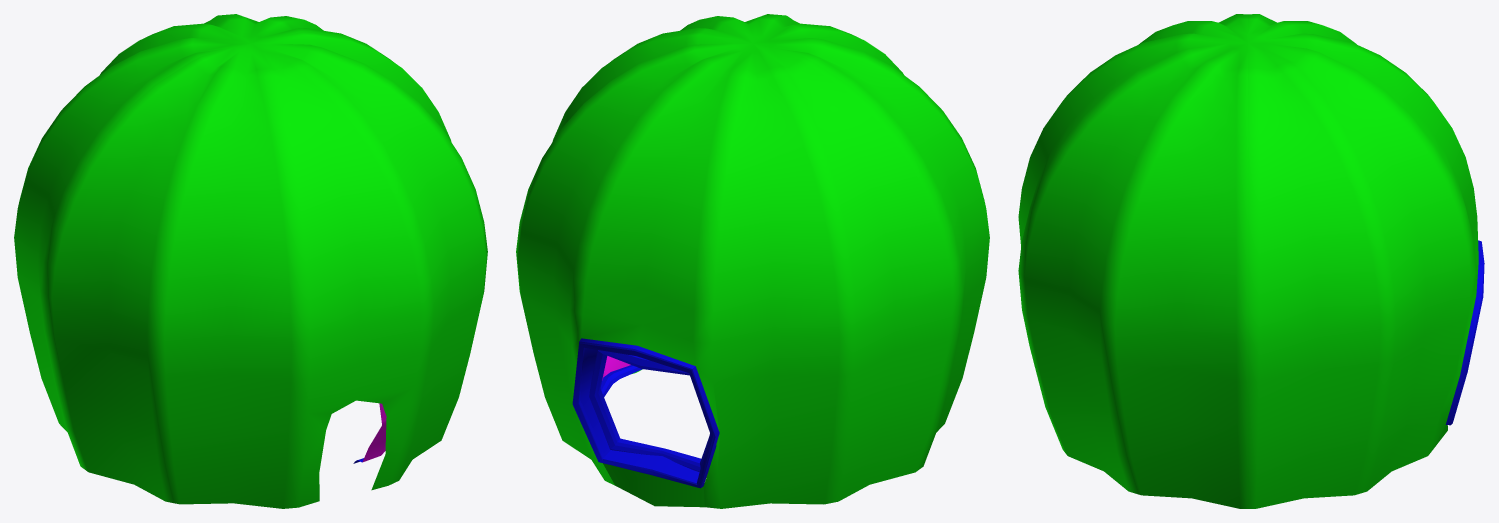
Rendered from unity_check_blockout.fbx.
3 views of the same model, side by side, from view 1: azimuth 30°, elevation 25°; view 2: azimuth 150°, elevation 25°; view 3: azimuth 270°, elevation 25° (orthographic).
Visible parts, largest first — view 1: polySurface39; view 2: polySurface39; view 3: polySurface39.
Boxes of the visible parts, x1,y1,x2,y2 form: polySurface39: (14,14,487,508); polySurface39: (516,14,989,508); polySurface39: (1018,14,1484,508).
Bounding box in the file's own units: 534 × 485 × 527.
